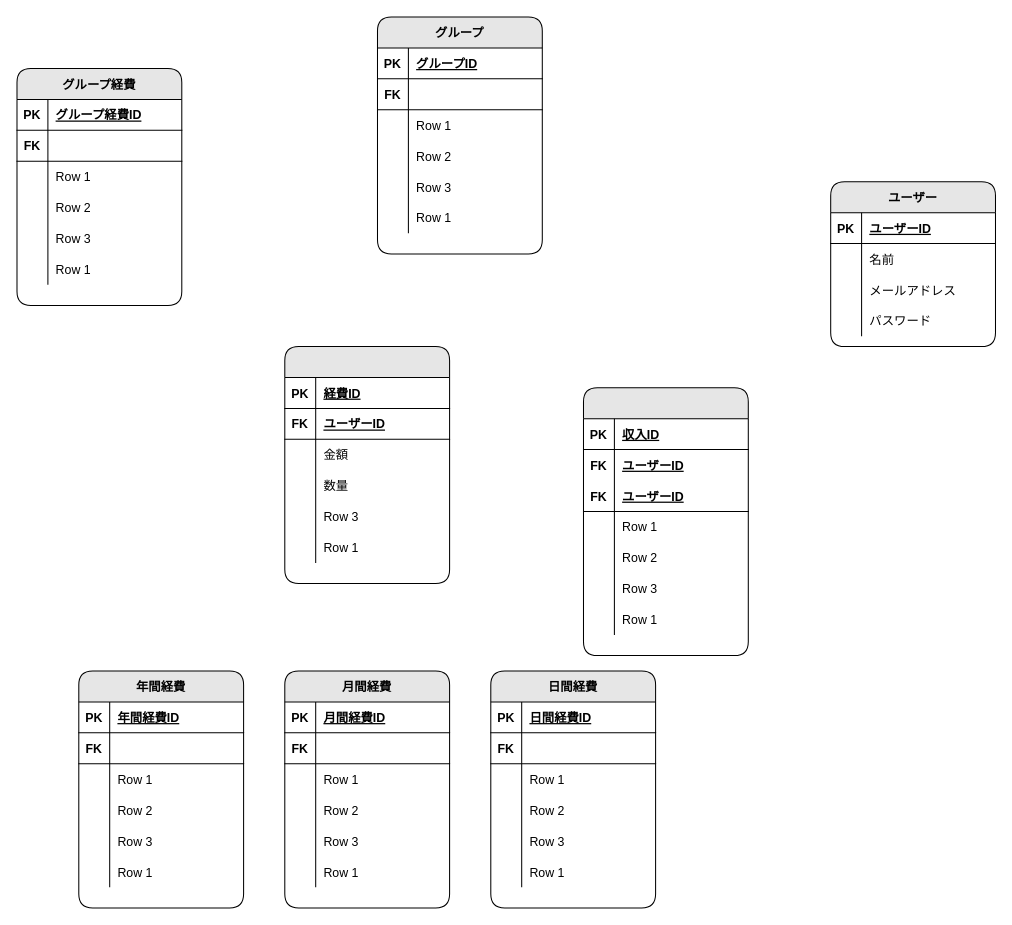
Some shapes in this 1012 by 925 pixel diagram are drawn without their labels. Here are the shapes that lost their labels. From the top down, the box of each, then its label:
(284, 346, 450, 583): 経費
(582, 387, 748, 656): 収入
